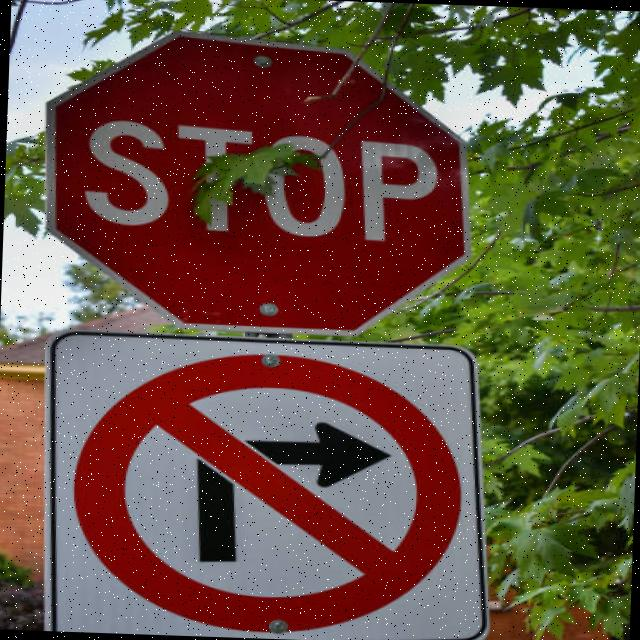do_not_turn_right: (62, 341, 454, 637)
